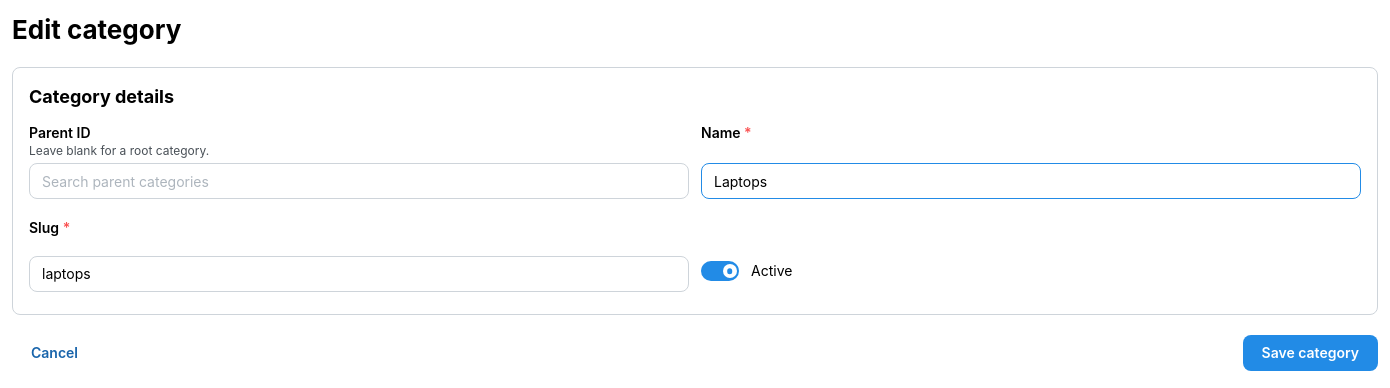
Test case: CategoryFormView › hydrates the selected parent and submits a changed parent
Later steps or results of the test are not shown.
What coordinates should you click on to do the following:
click the dropdown labelled "Parent ID"
I would click on:
 (359, 181)
Its box is [29, 163, 689, 199].
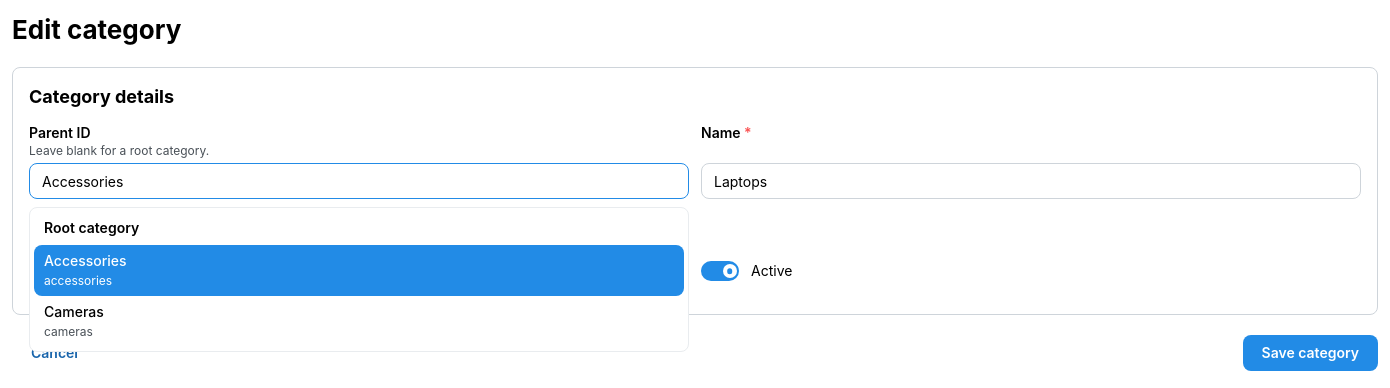
Now the option "Accessories accessories" is shown, box [34, 245, 684, 296]
What coordinates should you click on to do the following:
click the option "Cameras cameras"
I would click on:
 (74, 321)
Its box is [44, 303, 104, 339].
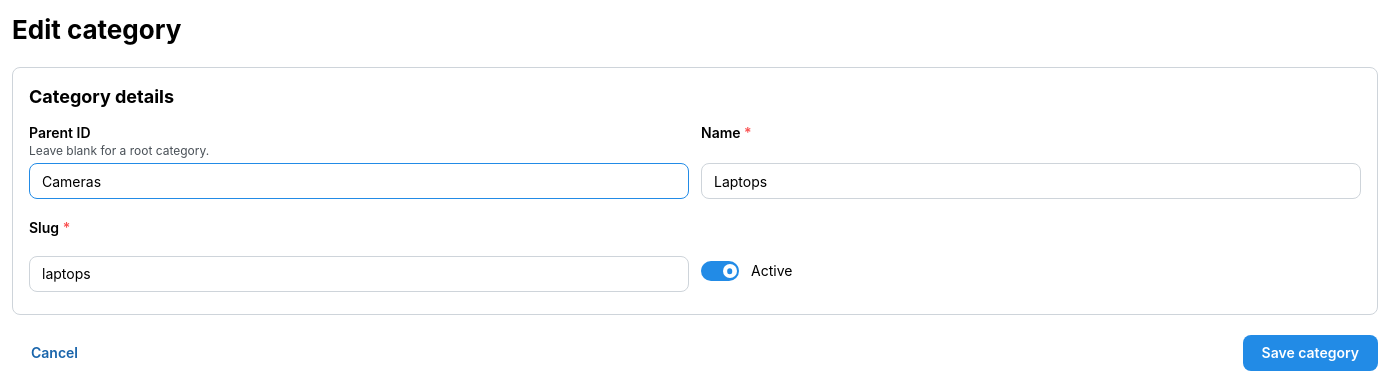
Now the dropdown labelled "Parent ID" holds "Cameras", box [29, 163, 689, 199]
